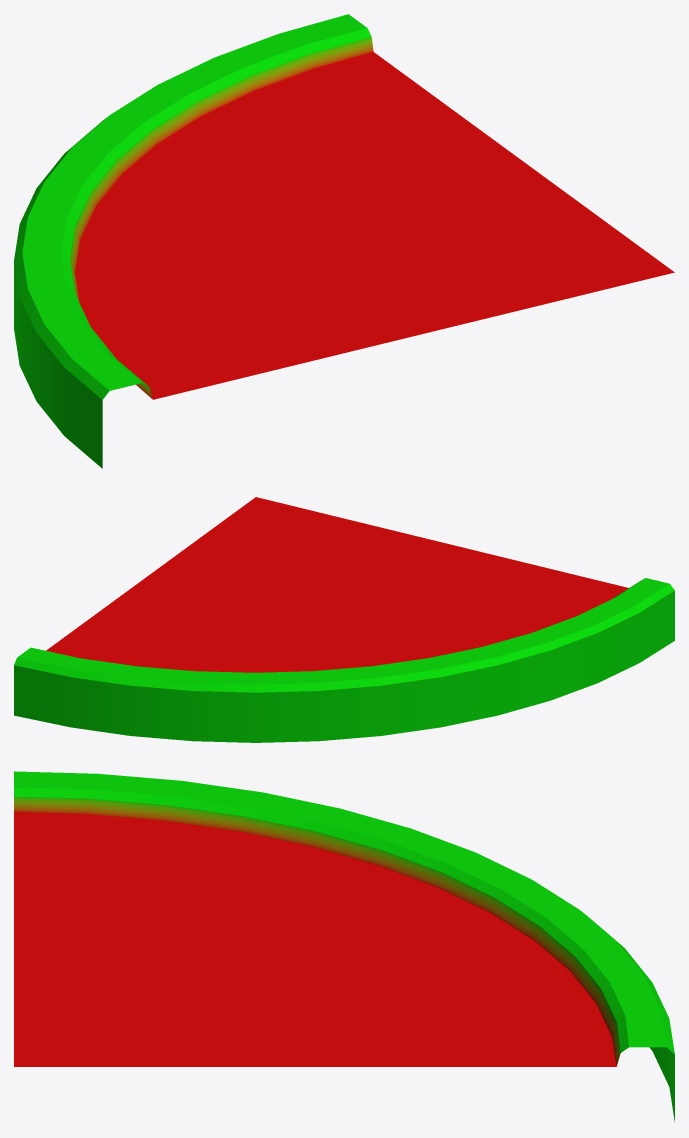
File: WideRoadB_Corner.fbx
The picture shows the model from 3 angles, top to bottom: view 1: azimuth 30°, elevation 25°; view 2: azimuth 150°, elevation 25°; view 3: azimuth 270°, elevation 25°; orthographic projection. The views are drawn at different scales.
Visible parts, largest first — view 1: WideRoadB_Corner; view 2: WideRoadB_Corner; view 3: WideRoadB_Corner.
Part boxes in pixels (<box>): WideRoadB_Corner: <box>14,14,674,468</box>; WideRoadB_Corner: <box>14,497,674,742</box>; WideRoadB_Corner: <box>14,771,674,1121</box>.
Bounding box in the file's own units: 2 × 2 × 0.2542.
